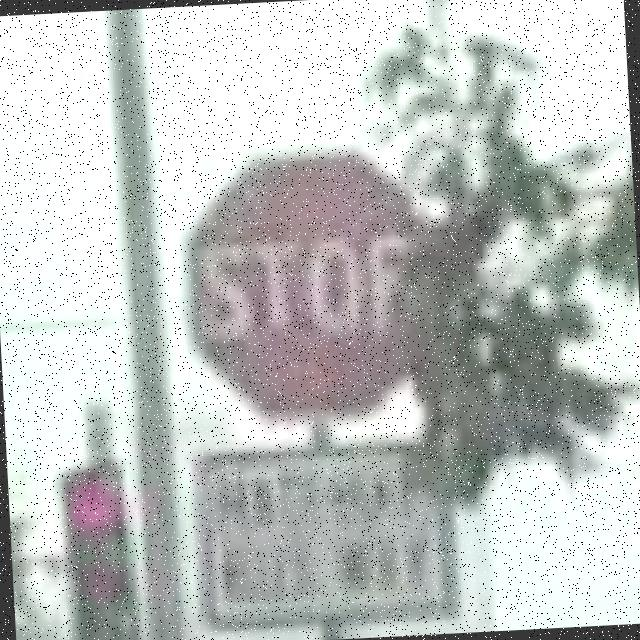Stop: (188, 151, 406, 421)
